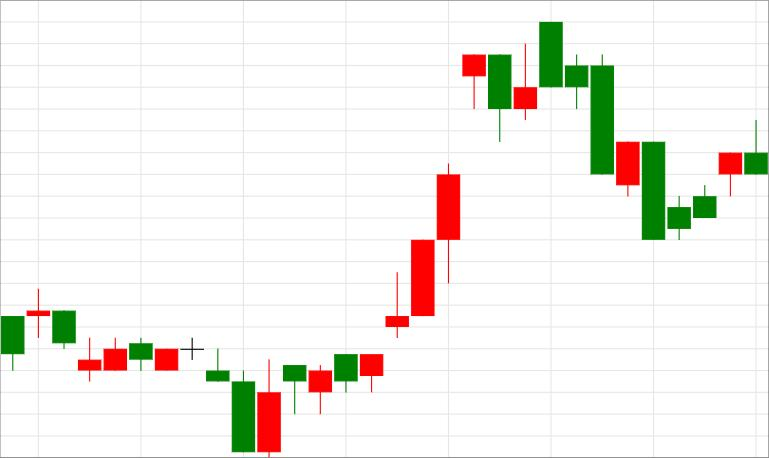bearish_engulfing_fall: (309, 54, 511, 415)
